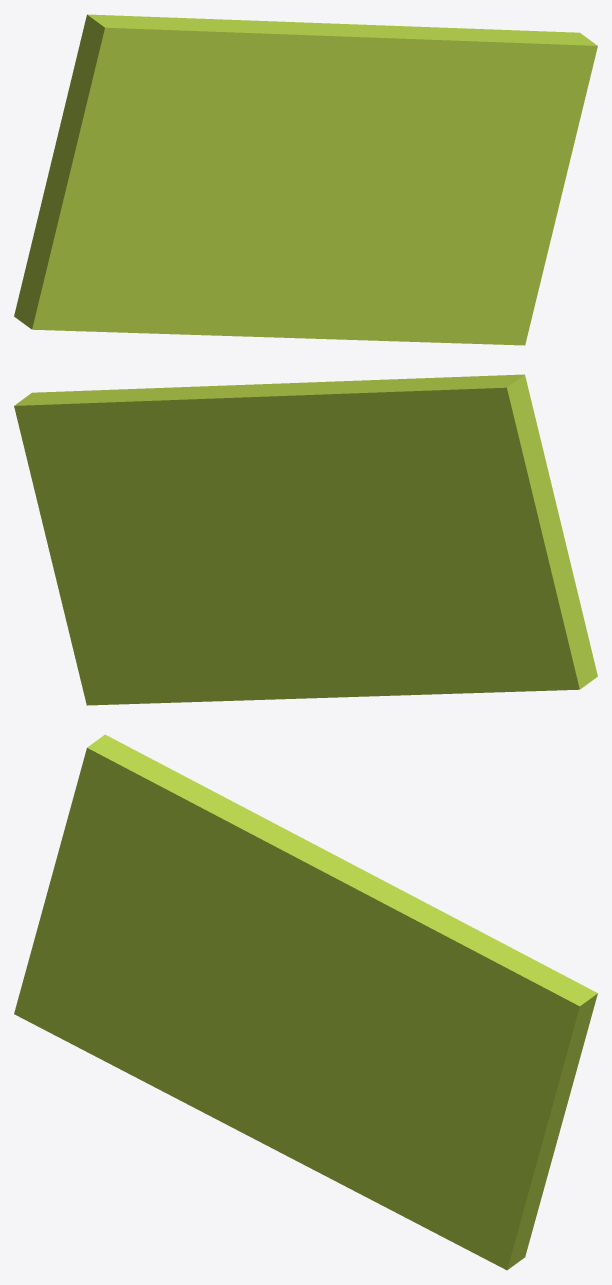
3 renders of one model, top to bottom at view 1: azimuth 30°, elevation 25°; view 2: azimuth 150°, elevation 25°; view 3: azimuth 330°, elevation 25°, orthographic.
Parts seen in each view (by area): view 1: osm-way27917482-F1; view 2: osm-way27917482-F1; view 3: osm-way27917482-F1.
Boxes of the visible parts, left/top/right/bottom form: osm-way27917482-F1: left=14, top=14, right=597, bottom=345; osm-way27917482-F1: left=14, top=374, right=597, bottom=705; osm-way27917482-F1: left=14, top=734, right=597, bottom=1270.
Bounding box in the file's own units: 2.71 × 1.92 × 0.15.
